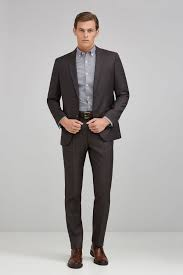person: (53, 5, 123, 85)
